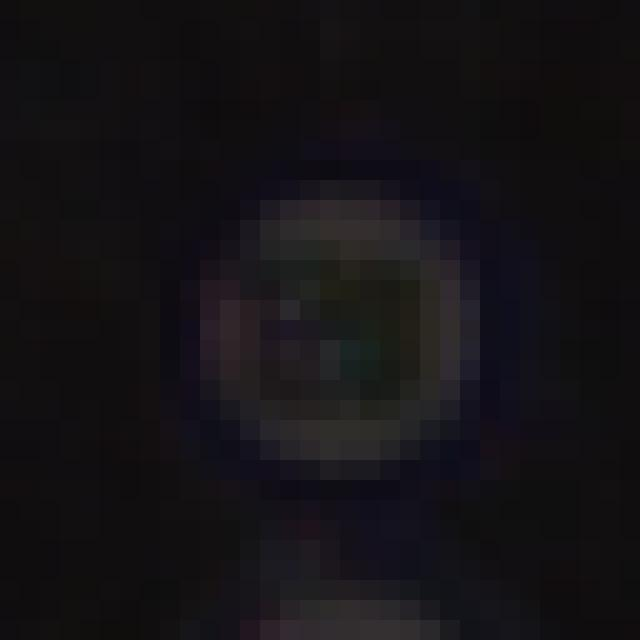SPEED LIMIT 120: (184, 167, 498, 499)
